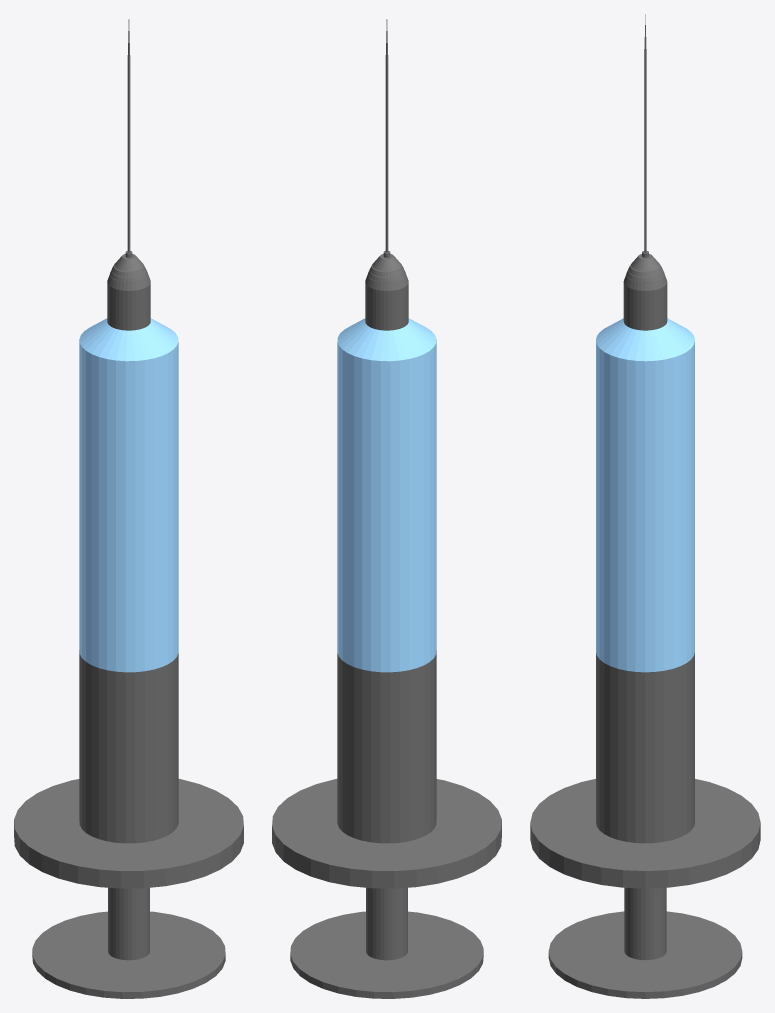
The model's file is MedicalVial.fbx.
3 renders of one model, left to right at view 1: azimuth 30°, elevation 25°; view 2: azimuth 150°, elevation 25°; view 3: azimuth 270°, elevation 25°, orthographic.
Visible parts, largest first — view 1: Cylinder_2, Cylinder.001_3; view 2: Cylinder_2, Cylinder.001_3; view 3: Cylinder_2, Cylinder.001_3.
Boxes of the visible parts, bbox=[...] form: Cylinder_2: bbox=[14, 19, 243, 998]; Cylinder.001_3: bbox=[79, 318, 178, 672]; Cylinder_2: bbox=[272, 19, 501, 998]; Cylinder.001_3: bbox=[337, 318, 436, 672]; Cylinder_2: bbox=[530, 14, 760, 998]; Cylinder.001_3: bbox=[596, 318, 694, 672].
Size of the model in its own units: 1055 by 4769 by 1055.
